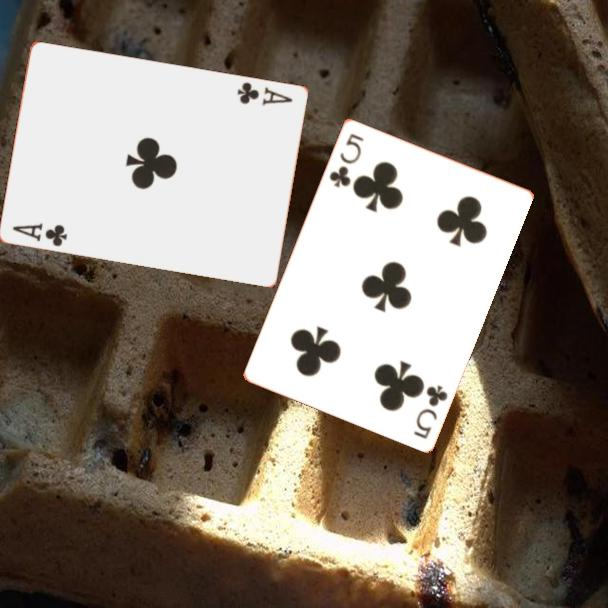c01: (234, 78, 296, 108), (9, 219, 71, 249)
c05: (325, 129, 367, 190), (410, 381, 451, 442)
